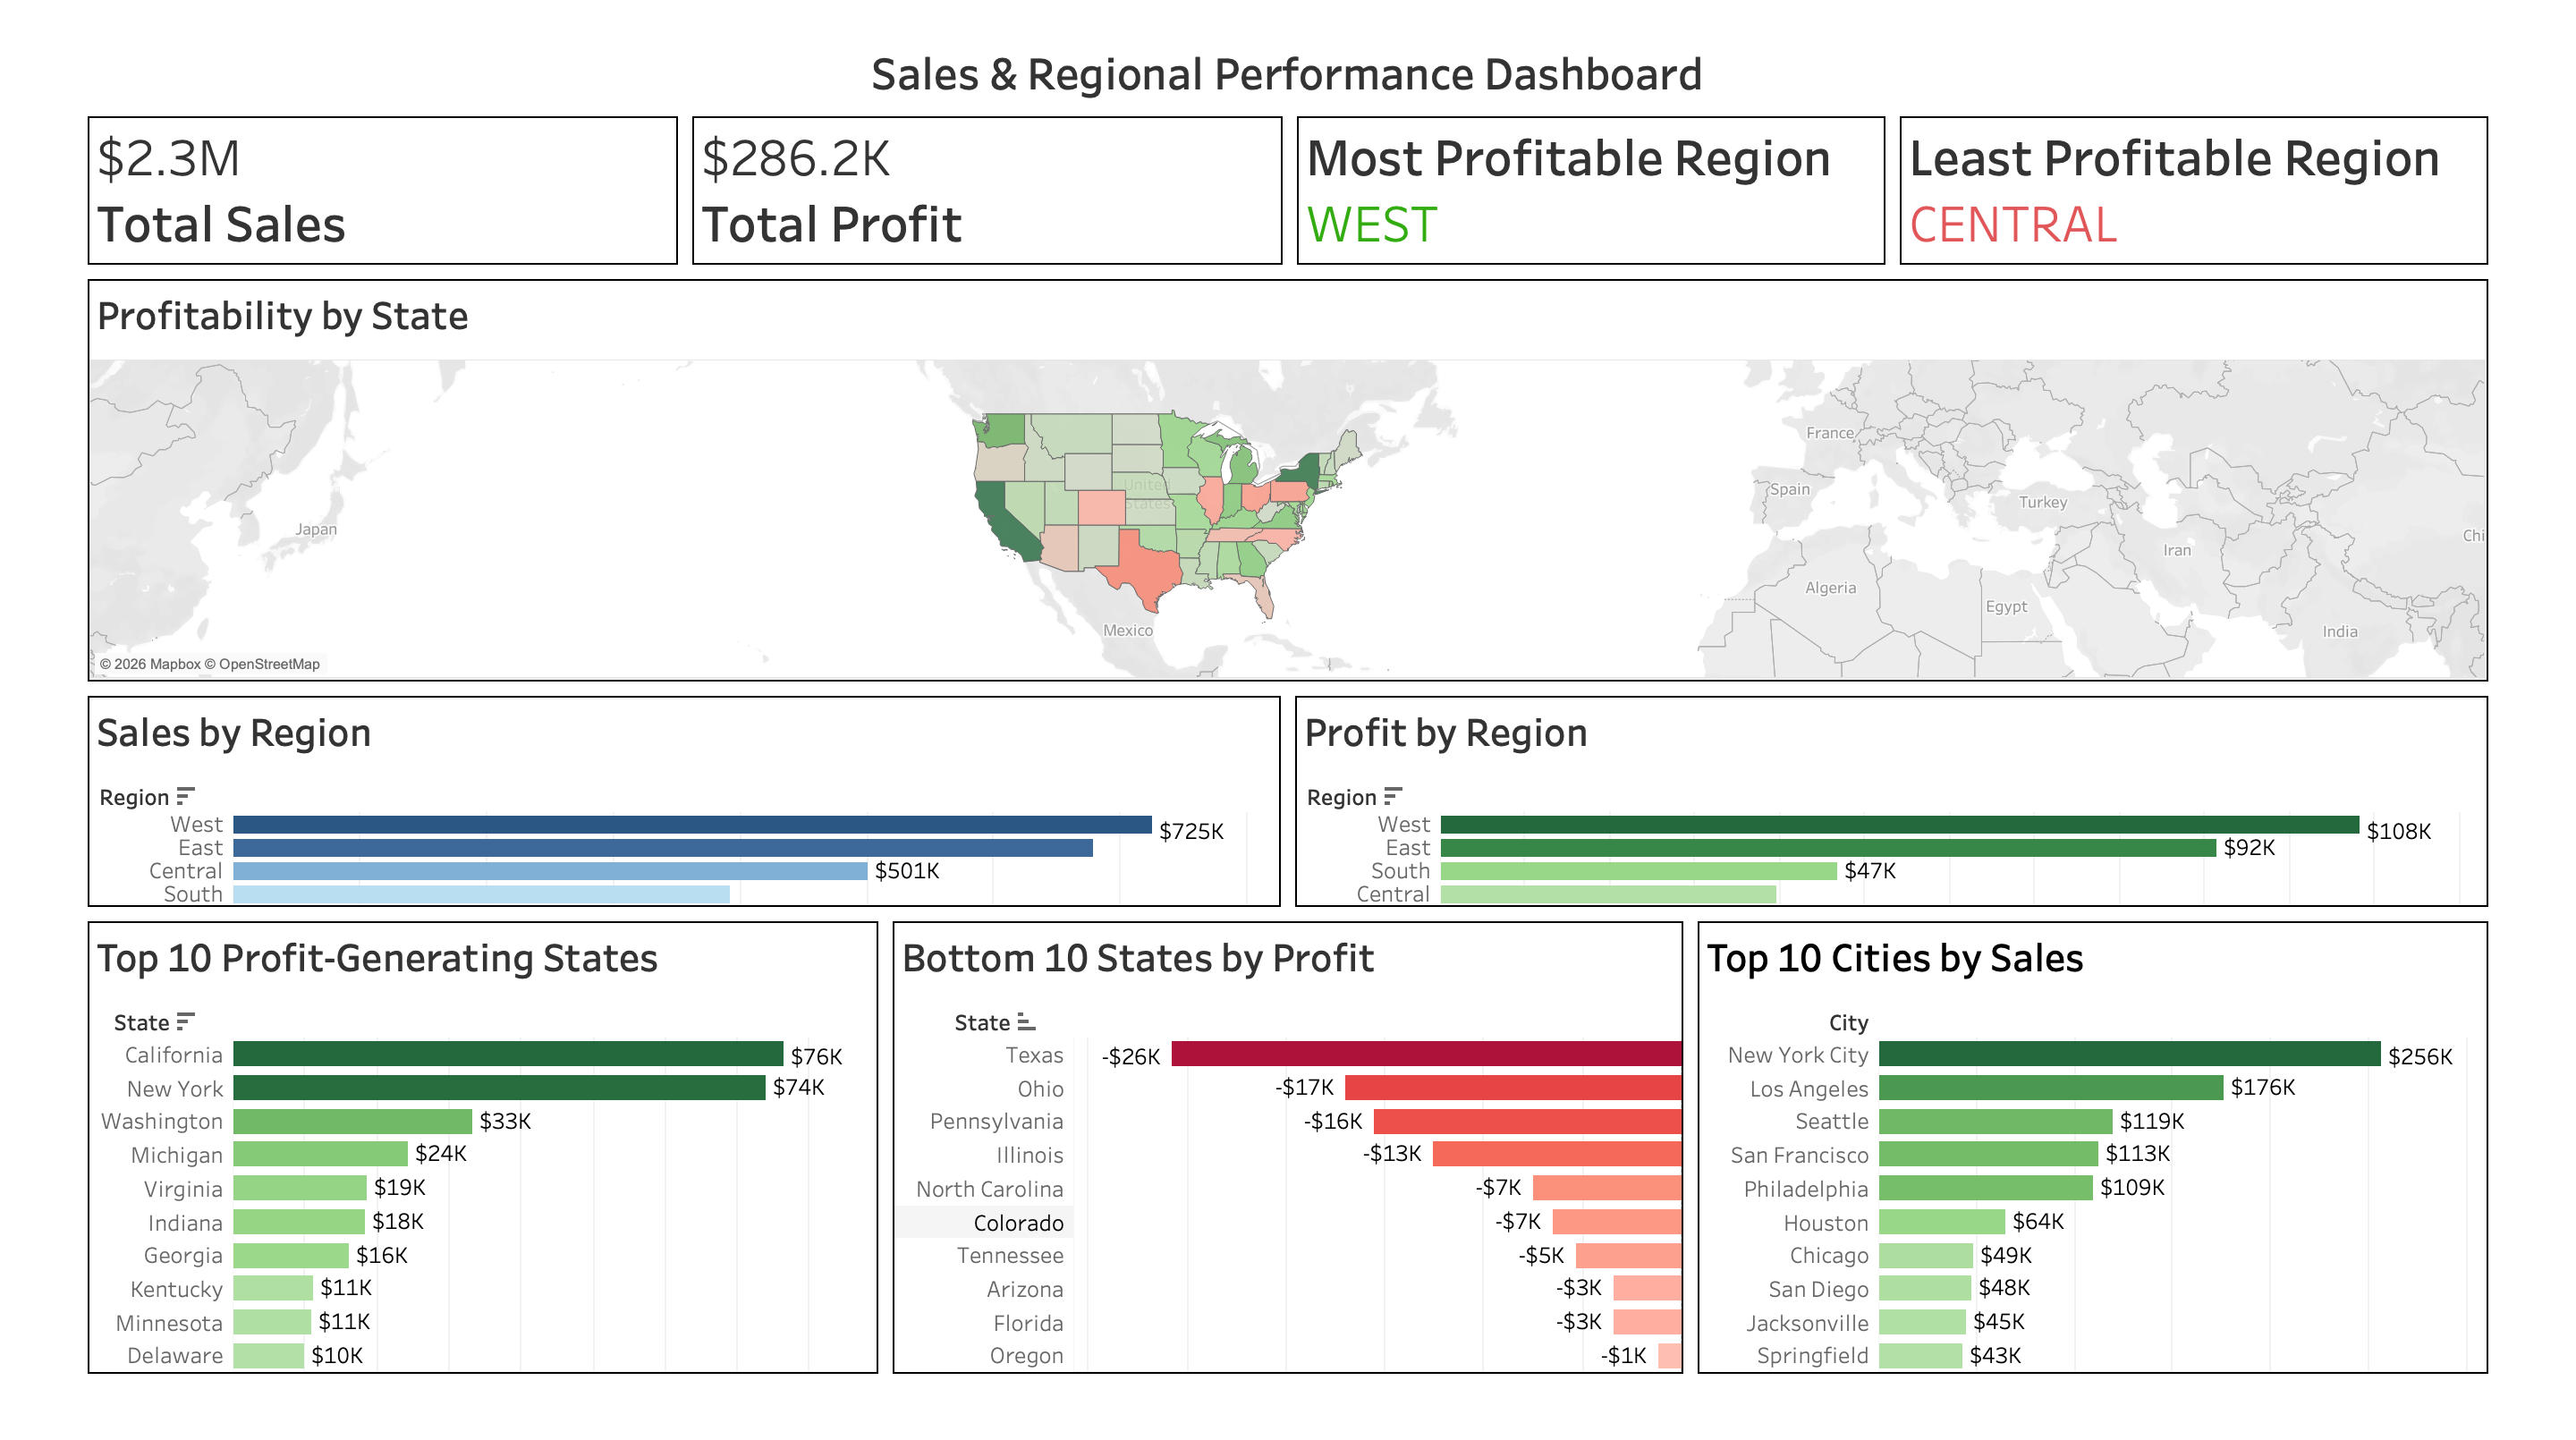

This screenshot's page, from the dashboard's own definition file:
{"tool":"tableau","page":{"name":"Sales & Regional Performance Dashboard","canvas":[1366,768],"ordinal":3},"visuals":[{"type":"title","box":[8,8,1350,41]},{"type":"worksheet","title":"KPI - Total Sales","mark":"Automatic","box":[8,49,338,91]},{"type":"worksheet","title":"KPI - Total Profit","mark":"Automatic","box":[346,49,338,91]},{"type":"worksheet","title":"KPI Best Region","mark":"Automatic","rows":["Region"],"box":[684,49,337,91]},{"type":"worksheet","title":"KPI Worst Region","mark":"Automatic","rows":["Region"],"box":[1021,49,337,91]},{"type":"worksheet","title":"Regional Profit Map","mark":"Multipolygon","box":[8,140,1350,233]},{"type":"worksheet","title":"Sales by Region","mark":"Automatic","rows":["Region"],"cols":["Sales"],"box":[8,373,675,126]},{"type":"worksheet","title":"Profit by Region","mark":"Automatic","rows":["Region"],"cols":["Profit"],"box":[683,373,675,126]},{"type":"worksheet","title":"Top 10 States by Profit","mark":"Bar","rows":["State"],"cols":["Profit"],"box":[8,499,450,261]},{"type":"worksheet","title":"Bottom 10 States by Profit","mark":"Automatic","rows":["State"],"cols":["Profit"],"box":[458,499,450,261]},{"type":"worksheet","title":"Top 10 Cities by Sales","mark":"Automatic","rows":["City"],"cols":["Sales"],"box":[908,499,450,261]}]}

Visuals, with their boxes in screenshot pixels (x1, y1, x2, y2), scaled from the page's 1366x768 canvas onto the 2576x1440 screenshot:
title: <box>15,15,2561,92</box>
"KPI - Total Sales" worksheet: <box>15,92,652,262</box>
"KPI - Total Profit" worksheet: <box>652,92,1290,262</box>
"KPI Best Region" worksheet: <box>1290,92,1926,262</box>
"KPI Worst Region" worksheet: <box>1926,92,2561,262</box>
"Regional Profit Map" worksheet (Multipolygon marks): <box>15,262,2561,699</box>
"Sales by Region" worksheet: <box>15,699,1288,936</box>
"Profit by Region" worksheet: <box>1288,699,2561,936</box>
"Top 10 States by Profit" worksheet (Bar marks): <box>15,936,864,1425</box>
"Bottom 10 States by Profit" worksheet: <box>864,936,1712,1425</box>
"Top 10 Cities by Sales" worksheet: <box>1712,936,2561,1425</box>
